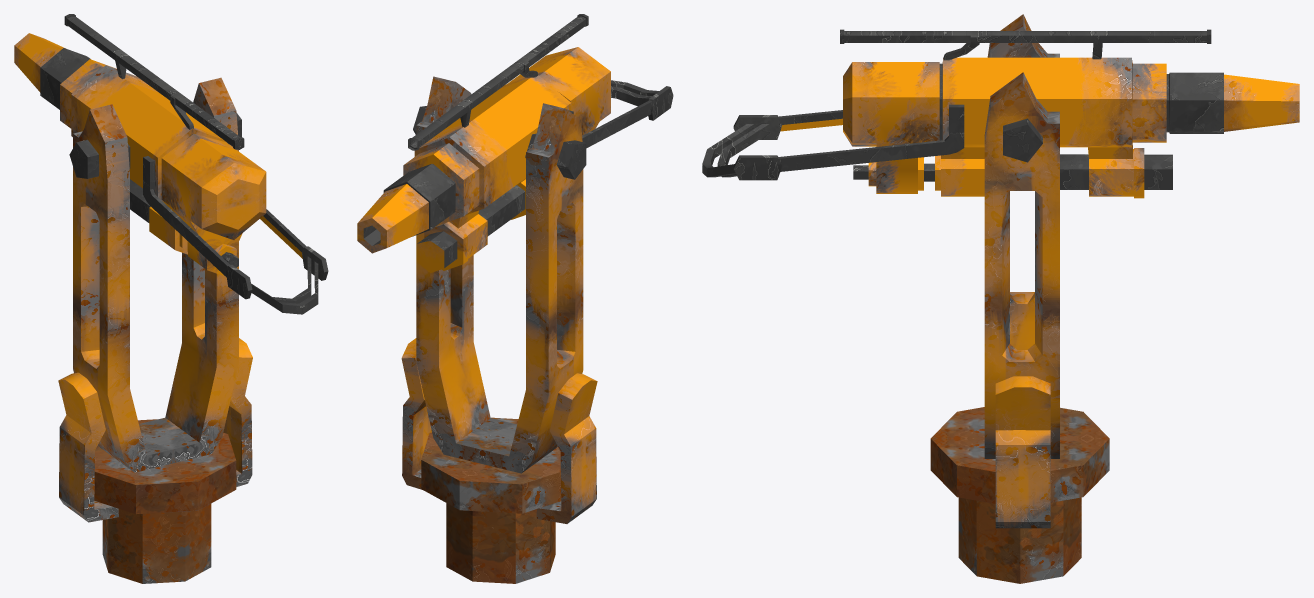
Rendered from Longboi Harpoon.fbx.
3 views of the same model, side by side, from view 1: azimuth 30°, elevation 25°; view 2: azimuth 150°, elevation 25°; view 3: azimuth 270°, elevation 25° (orthographic). The views are drawn at different scales.
Parts seen in each view (by area): view 1: Harpoon T Base, Harpoon T Gun; view 2: Harpoon T Base, Harpoon T Gun; view 3: Harpoon T Gun, Harpoon T Base.
Part boxes in pixels (<box>): Harpoon T Base: <box>58,77,252,583</box>; Harpoon T Gun: <box>14,14,328,314</box>; Harpoon T Base: <box>401,76,597,583</box>; Harpoon T Gun: <box>357,14,673,272</box>; Harpoon T Gun: <box>702,29,1299,198</box>; Harpoon T Base: <box>930,14,1109,583</box>.
Bounding box in the file's own units: 1.03 × 2.75 × 2.82.
Materials: 4 (4 with a texture image).
